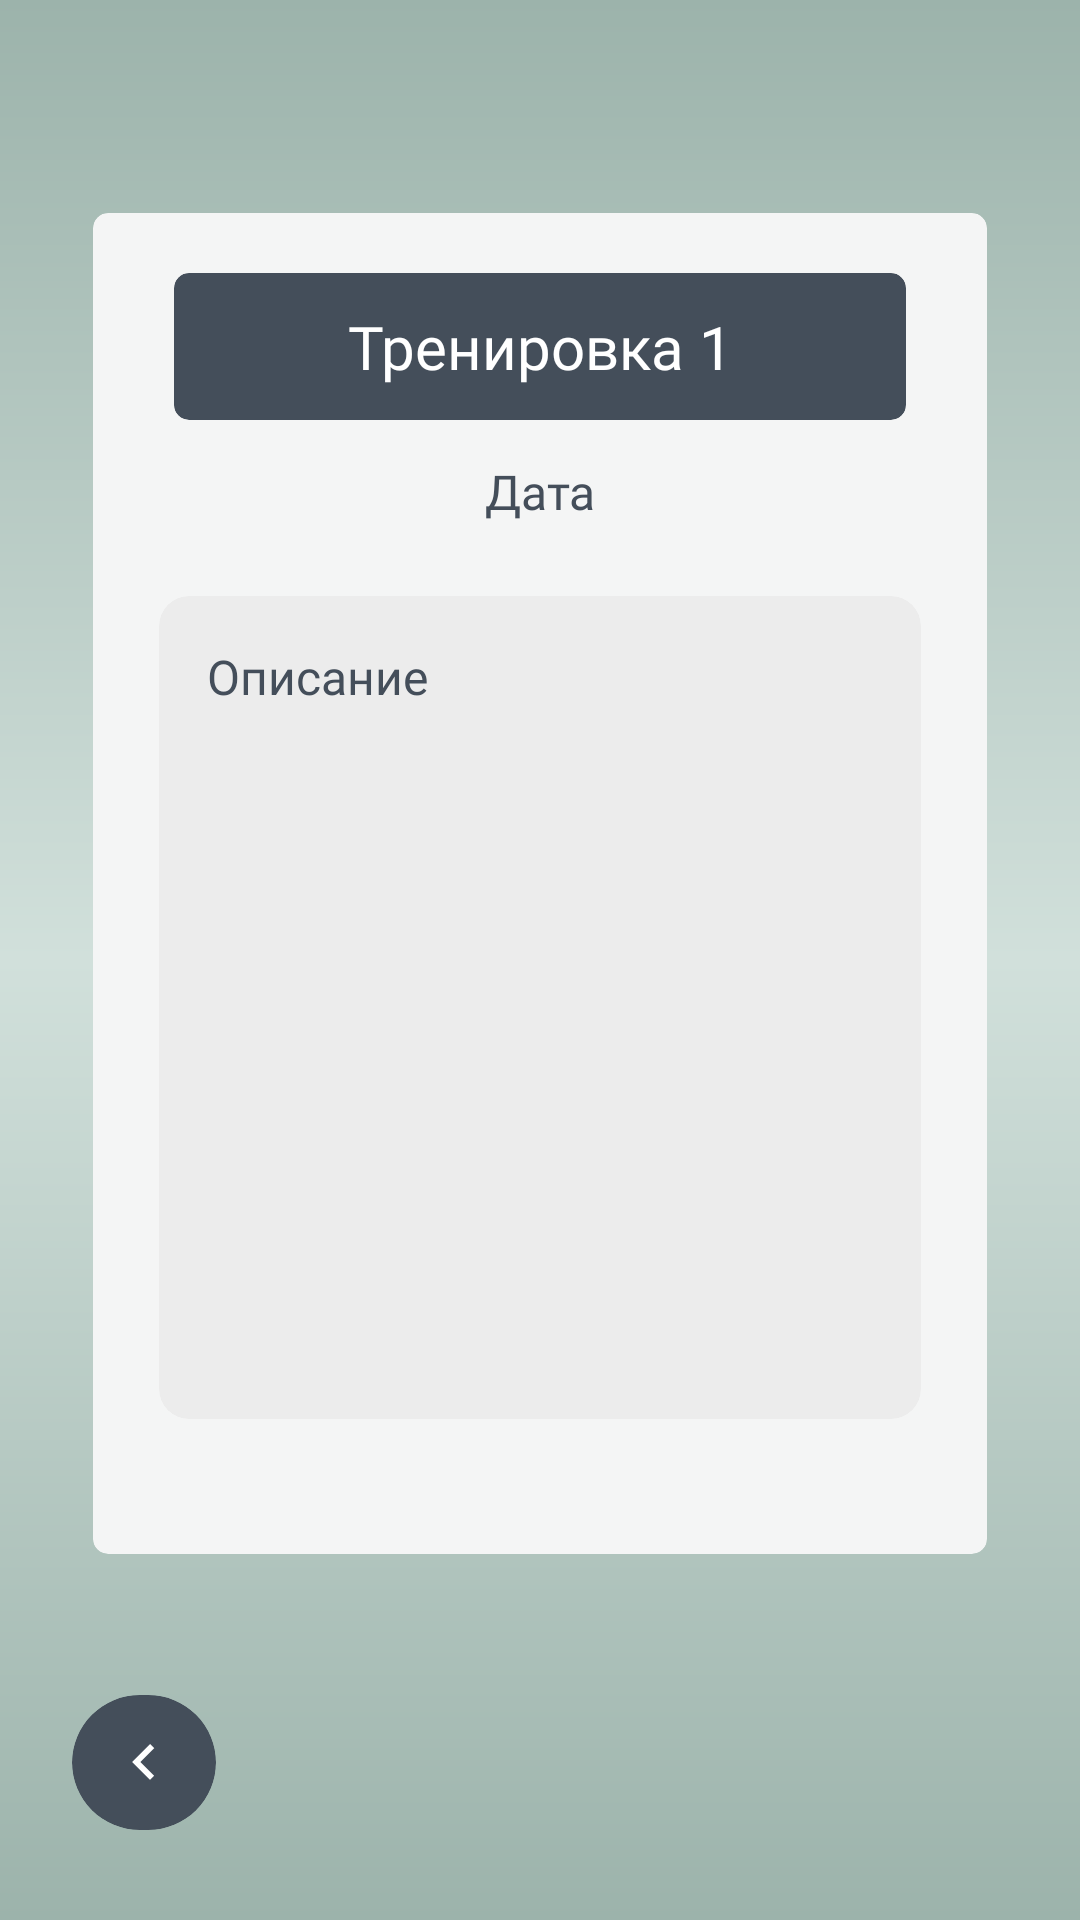

Locate icon controls on the screen. Image size 1080 × 1920, boxes as (x1, y1, x2, y2).
Назад: (132, 1744, 154, 1780)
